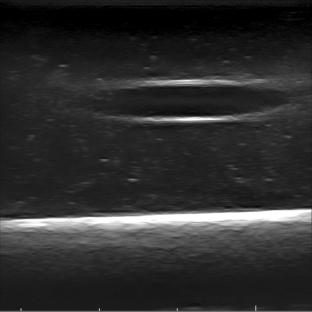vessel: (107, 77, 290, 125)
